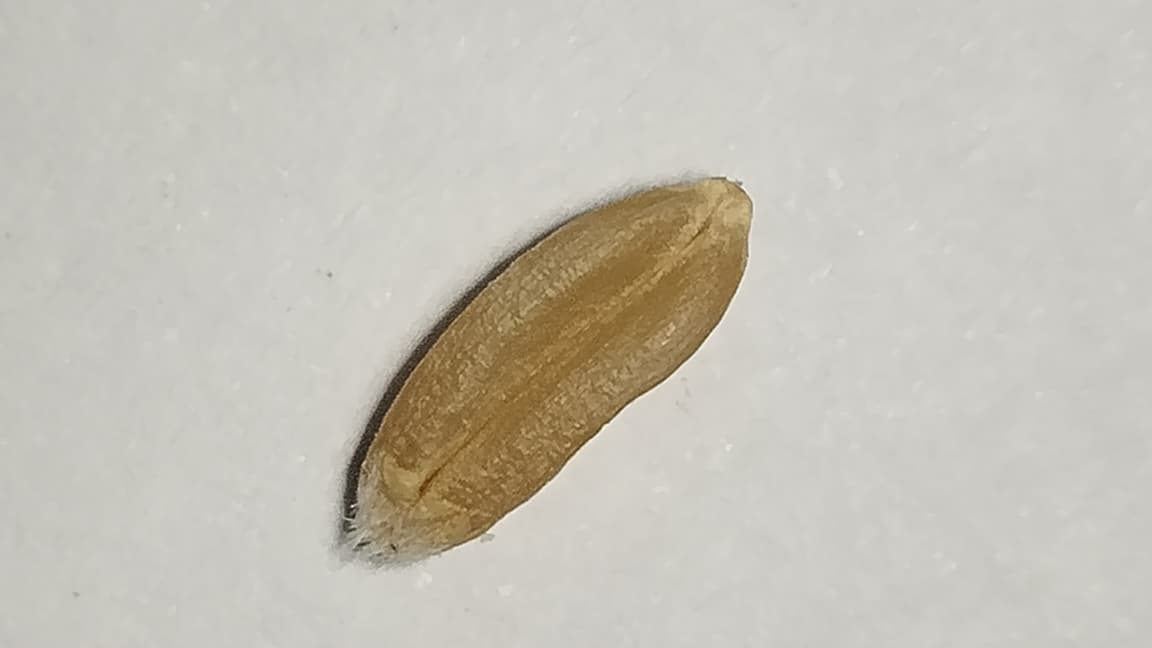healthy: (351, 177, 751, 563)
